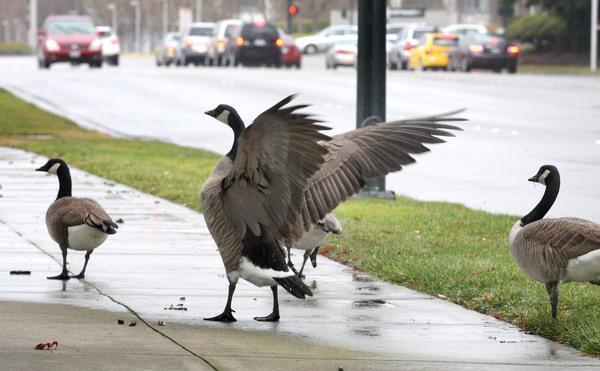goose: (196, 101, 308, 332), (502, 163, 600, 324), (32, 157, 120, 284)
